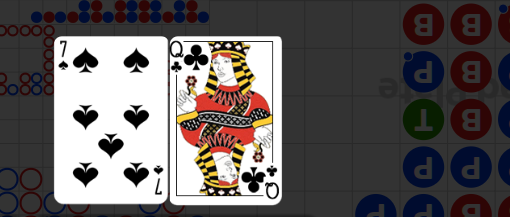7S: (57, 39, 70, 73)
QC: (171, 36, 215, 83), (238, 157, 282, 203)
